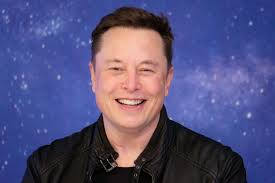No-Glasses: (95, 55, 167, 80)
